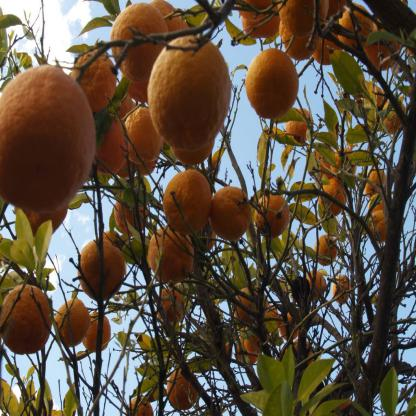Orange: (0, 0, 235, 236), (237, 0, 403, 72), (244, 47, 300, 119), (0, 286, 52, 354), (77, 233, 127, 301), (163, 170, 210, 234), (146, 225, 196, 282), (210, 186, 252, 240), (54, 298, 90, 349), (254, 193, 292, 236), (82, 310, 112, 354), (168, 370, 198, 407), (319, 177, 348, 215), (315, 234, 337, 266), (365, 168, 386, 198), (369, 210, 388, 242), (306, 269, 328, 294), (332, 276, 351, 302), (130, 396, 154, 416), (368, 193, 384, 213)
